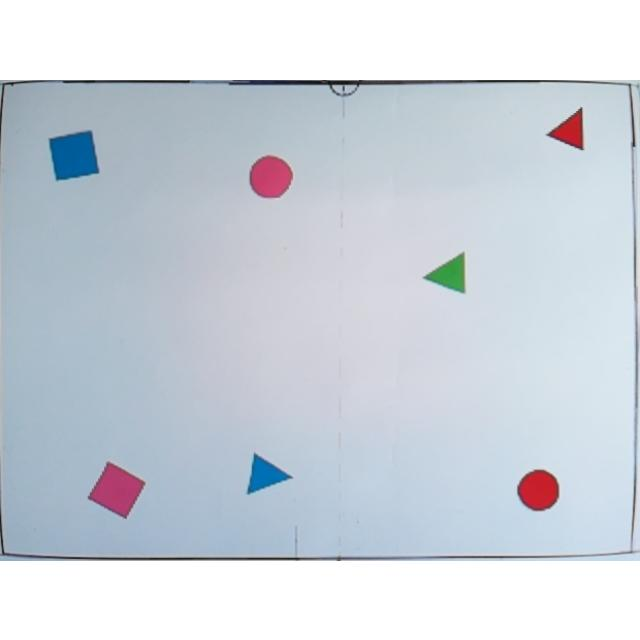blueSquare: (49, 128, 101, 180)
blueTriangle: (246, 450, 294, 496)
greenTriangle: (420, 248, 466, 294)
pinkCircle: (249, 153, 293, 197)
pinkSquare: (88, 459, 146, 519)
redCircle: (516, 468, 560, 510)
redTriangle: (546, 105, 584, 152)
